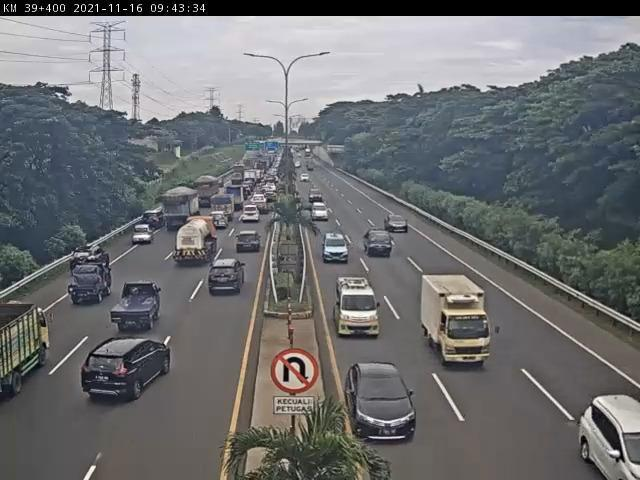car: (81, 338, 173, 406), (344, 364, 419, 444), (333, 278, 383, 341), (113, 282, 167, 332), (64, 265, 111, 310), (207, 258, 247, 297), (62, 248, 104, 283), (364, 231, 396, 260), (322, 234, 350, 265), (234, 229, 264, 255), (130, 226, 156, 248), (137, 212, 166, 231), (386, 212, 410, 234), (242, 205, 264, 226), (209, 212, 230, 232), (311, 202, 331, 222)
truck: (422, 276, 501, 375), (2, 300, 53, 398), (171, 215, 220, 268), (161, 188, 202, 234)
